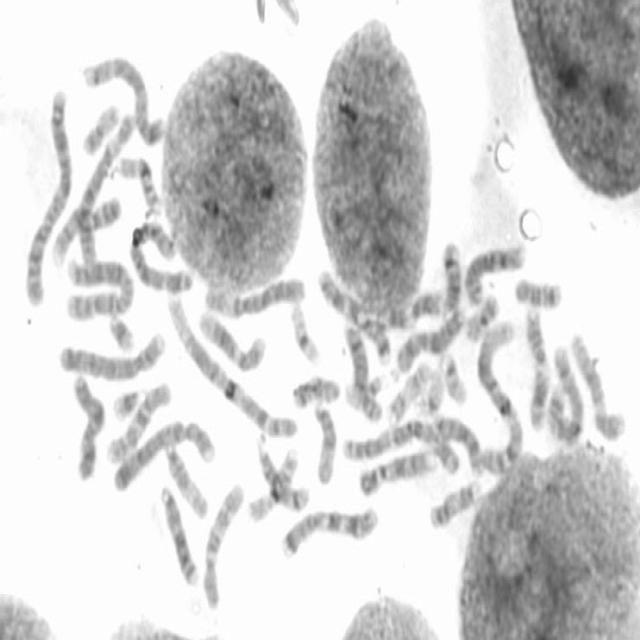A1: (162, 284, 299, 442), (474, 312, 526, 474)
A2: (20, 82, 73, 308), (61, 251, 135, 322)
A3: (339, 413, 463, 477), (126, 213, 195, 296)
B4: (110, 411, 218, 494), (56, 324, 168, 382)
B5: (78, 48, 168, 150), (544, 337, 586, 445)
C10: (102, 374, 172, 467), (199, 475, 246, 611)
C11: (521, 301, 551, 431), (375, 283, 445, 332)
C12: (567, 324, 628, 444), (194, 302, 267, 373)
C6: (72, 105, 137, 269), (199, 268, 306, 319)
C7: (314, 261, 393, 365), (276, 498, 380, 560)
C8: (340, 315, 385, 425), (460, 236, 528, 308)
C9: (48, 188, 124, 268), (355, 444, 439, 499)
D13: (155, 478, 200, 587), (428, 408, 485, 477)
D14: (252, 428, 310, 513), (437, 233, 464, 314)
D15: (160, 435, 210, 522), (310, 394, 338, 486)
E16: (245, 442, 300, 524), (112, 148, 165, 215)
E17: (425, 472, 483, 532), (384, 353, 432, 425)
E18: (289, 368, 342, 410), (512, 269, 564, 310)
F19: (286, 296, 322, 365), (412, 364, 446, 418)
F20: (78, 95, 121, 157), (462, 286, 501, 343)
G21: (104, 307, 138, 354), (109, 380, 144, 422)
G22: (436, 346, 469, 406), (342, 372, 385, 413)
X: (393, 300, 468, 375), (67, 368, 107, 483)
